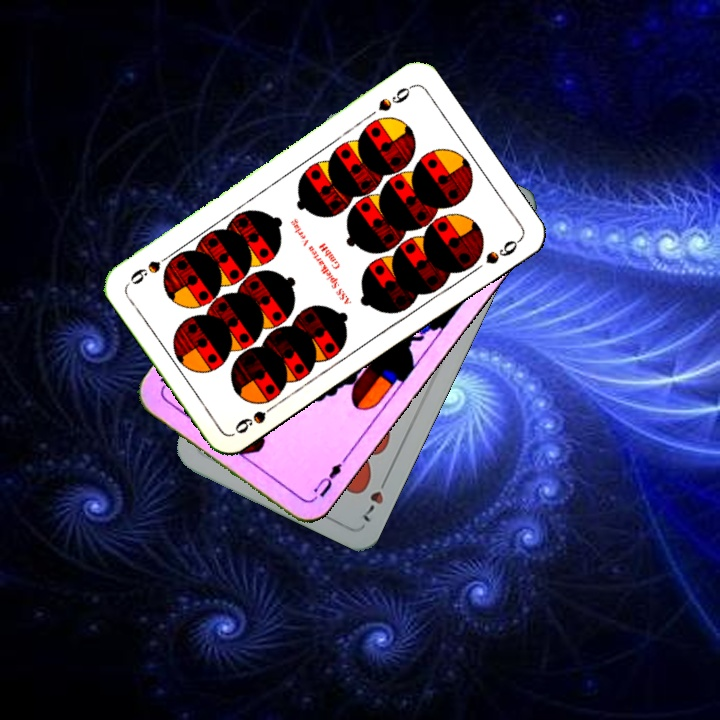EU: (309, 454, 349, 500)
H7: (358, 471, 392, 525)
S9: (230, 397, 282, 437), (374, 81, 416, 114)
